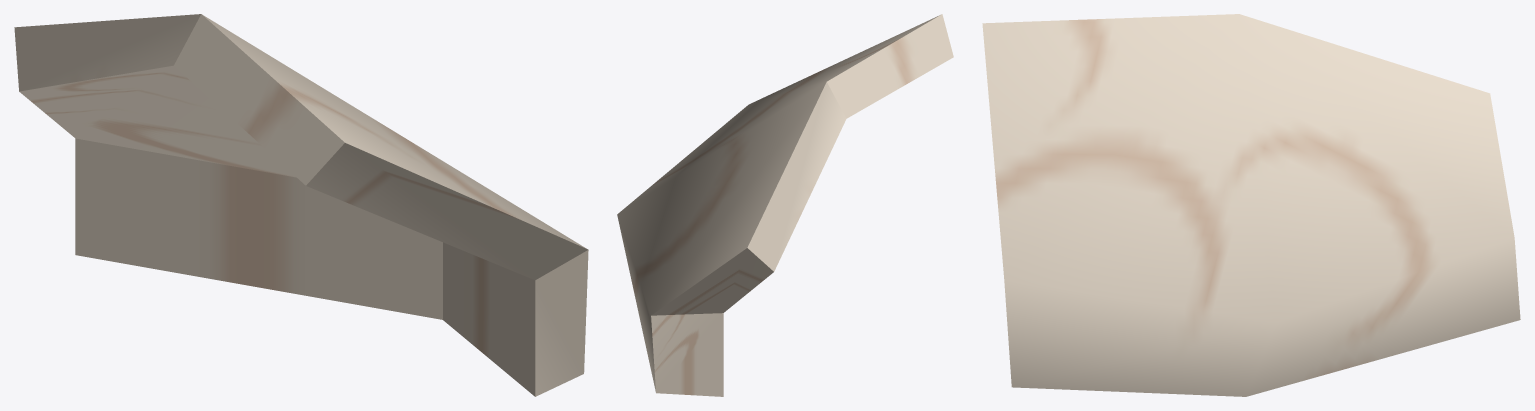
The model's file is SheepyGib.FBX.
3 renders of one model, left to right at view 1: azimuth 30°, elevation 25°; view 2: azimuth 150°, elevation 25°; view 3: azimuth 270°, elevation 25°, orthographic. The views are drawn at different scales.
Visible parts, largest first — view 1: SheepGib; view 2: SheepGib; view 3: SheepGib.
Boxes of the visible parts, x1,y1,x2,y2 form: SheepGib: [14, 14, 588, 396]; SheepGib: [617, 14, 953, 396]; SheepGib: [982, 14, 1520, 396].
Bounding box in the file's own units: 10.18 × 10.27 × 17.37.
Materials: 1 (1 with a texture image).
